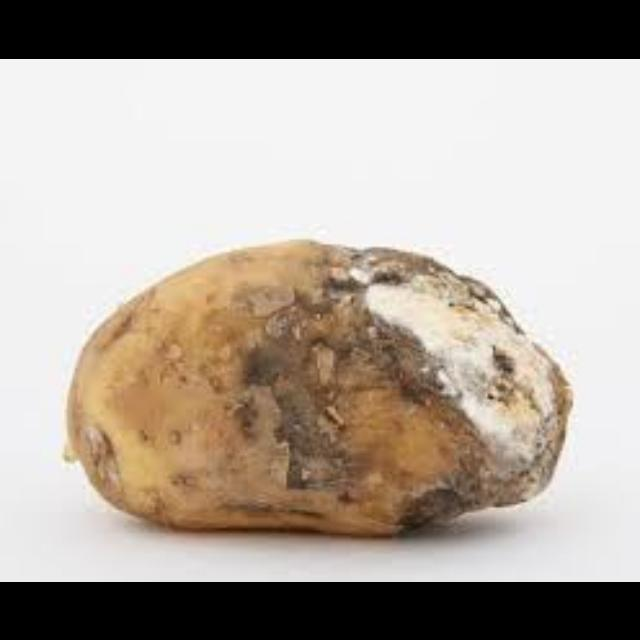Diseased-fungal potato: (57, 233, 569, 532)
